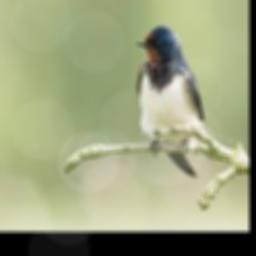Swallow: (135, 26, 203, 177)
